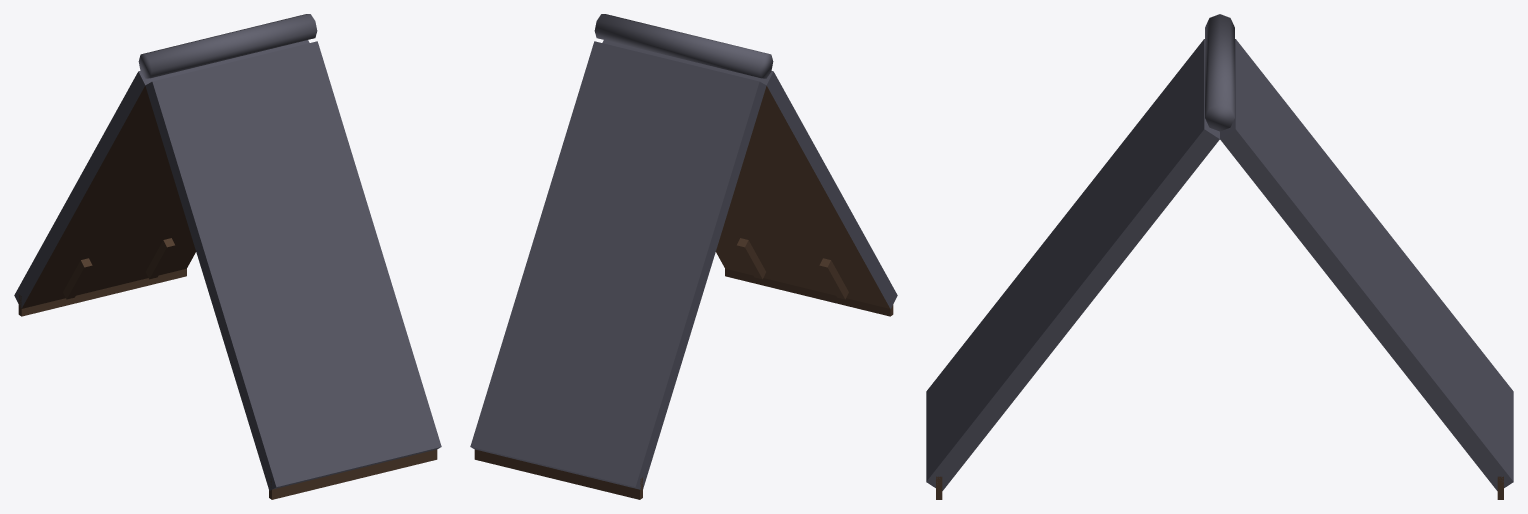
The model's file is kit_church_slate_w2.glb.
3 views of the same model, side by side, from view 1: azimuth 30°, elevation 25°; view 2: azimuth 150°, elevation 25°; view 3: azimuth 270°, elevation 25° (orthographic). The views are drawn at different scales.
Visible parts, largest first — view 1: kit_church_slate_w2; view 2: kit_church_slate_w2; view 3: kit_church_slate_w2.
Boxes of the visible parts, x1,y1,x2,y2 form: kit_church_slate_w2: (14, 14, 441, 499); kit_church_slate_w2: (470, 14, 897, 499); kit_church_slate_w2: (926, 14, 1513, 499).
Size of the model in its own units: 1 by 2.04 by 2.75.
